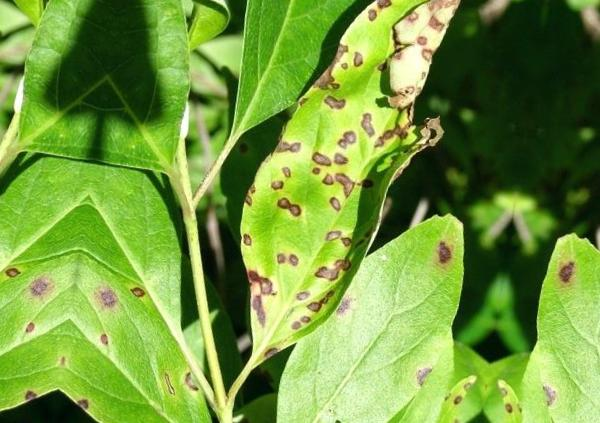Tomato leaf bacterial spot: (209, 0, 489, 399), (268, 177, 489, 423)
